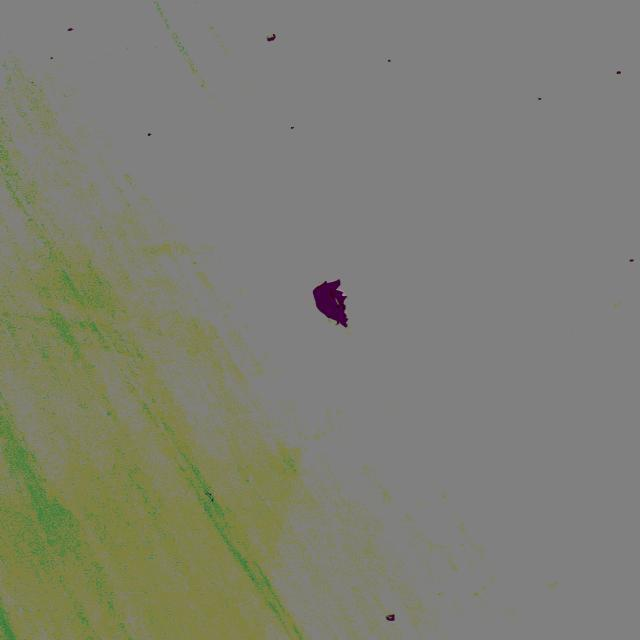crack: (326, 288, 351, 318)
